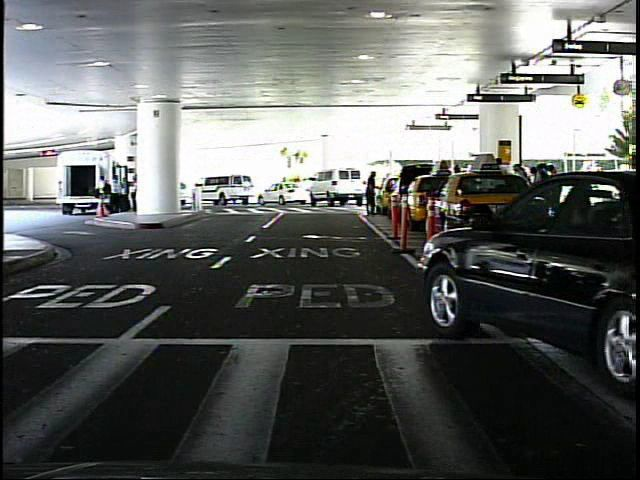person: (362, 164, 386, 220), (575, 166, 594, 223)
